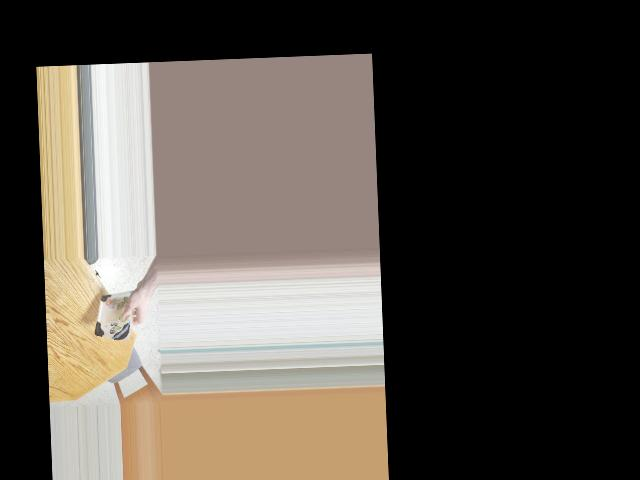cheese: (95, 282, 137, 343)
